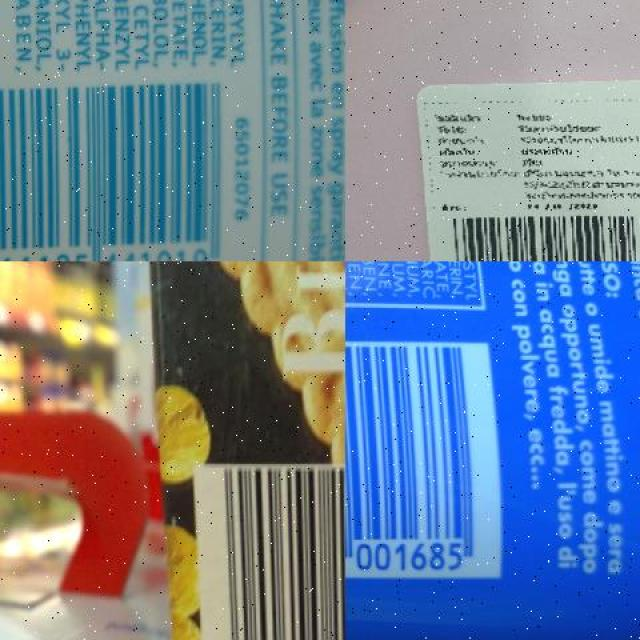Barcode: (0, 71, 255, 261), (346, 331, 502, 580), (190, 461, 346, 640), (437, 200, 640, 261)
